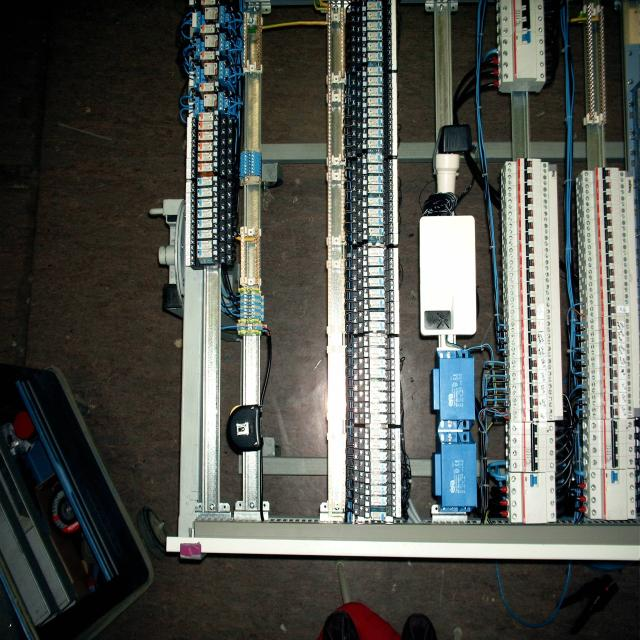Klemmenleiste: (327, 2, 402, 524), (184, 4, 240, 270)
Leitungsschutzschalter: (502, 160, 563, 421), (576, 166, 634, 419), (583, 469, 636, 520), (582, 418, 635, 468), (498, 35, 544, 92), (506, 472, 556, 524), (506, 422, 556, 472), (506, 421, 556, 471), (508, 473, 556, 522), (497, 0, 545, 34)
Relais: (428, 430, 481, 513), (431, 348, 483, 431)
Schaltkasten: (121, 0, 640, 575)
